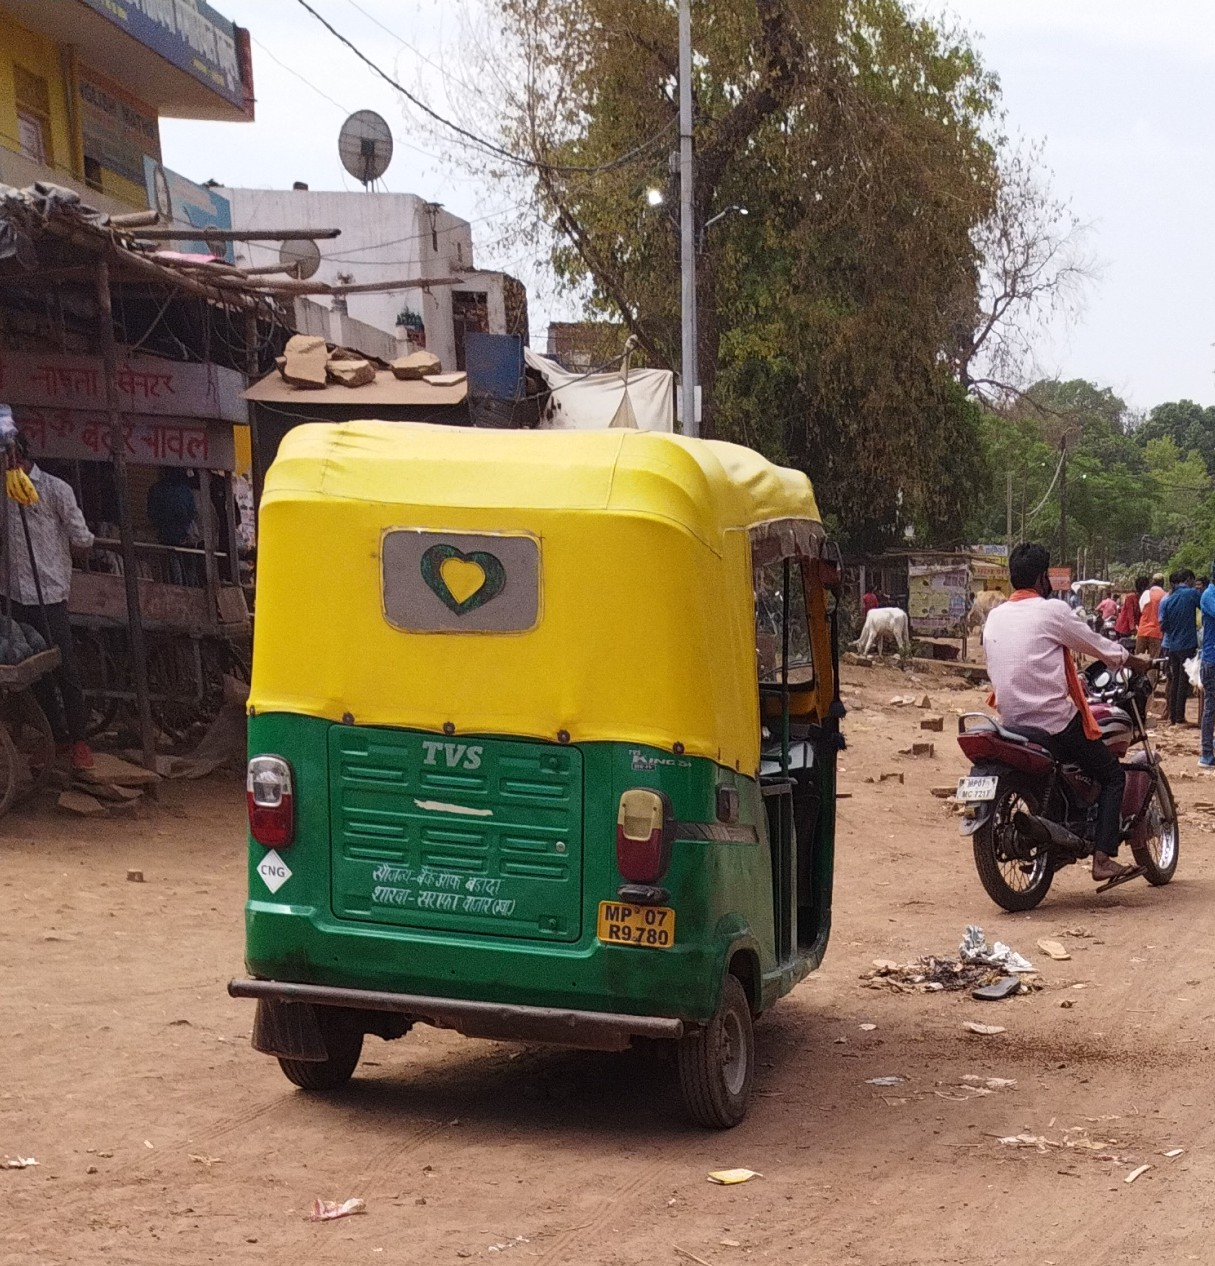auto: (235, 385, 886, 1141)
